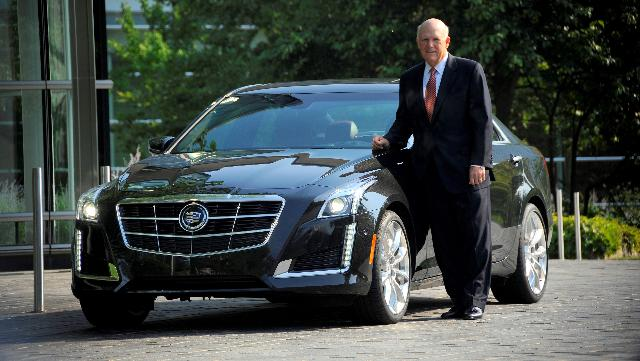cadillac: (70, 78, 552, 330)
